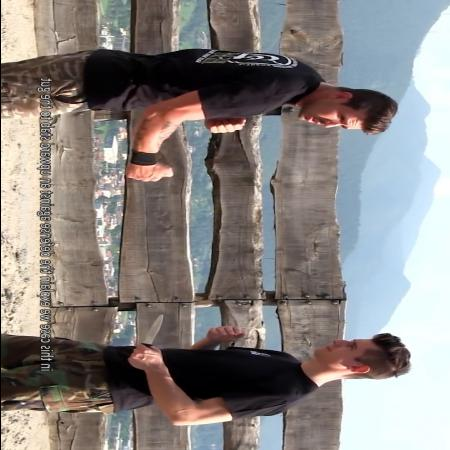long weapon: (124, 309, 170, 370)
